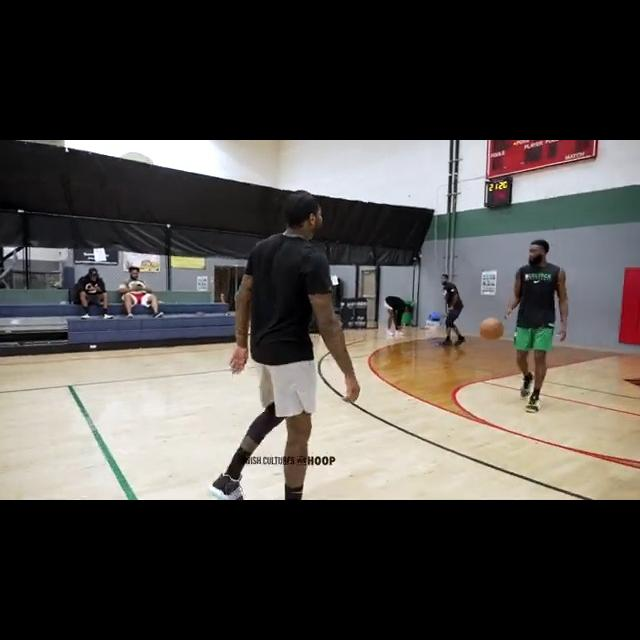basketball: (479, 317, 505, 341)
